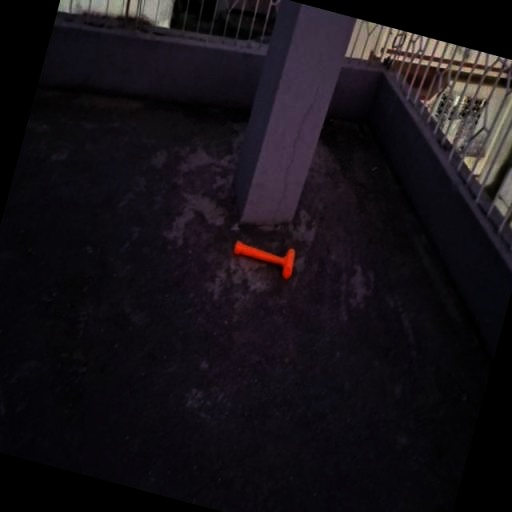mallet: (230, 236, 298, 282)
